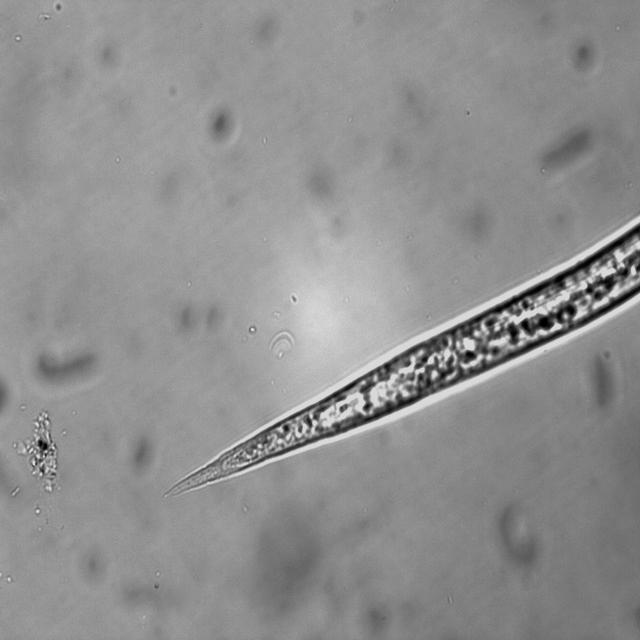Meloidogyne: (157, 215, 640, 506)
